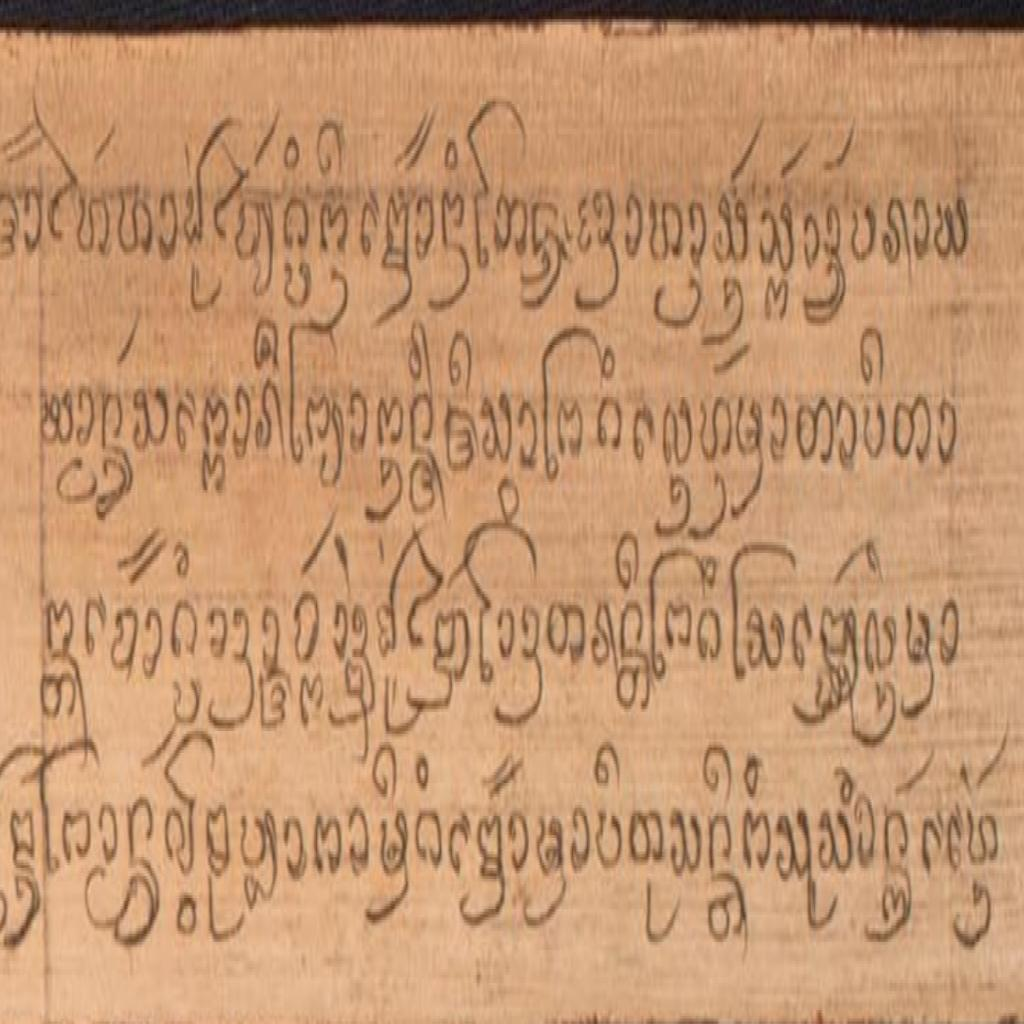LN039: (647, 191, 687, 272)
LN041: (576, 181, 618, 265)
